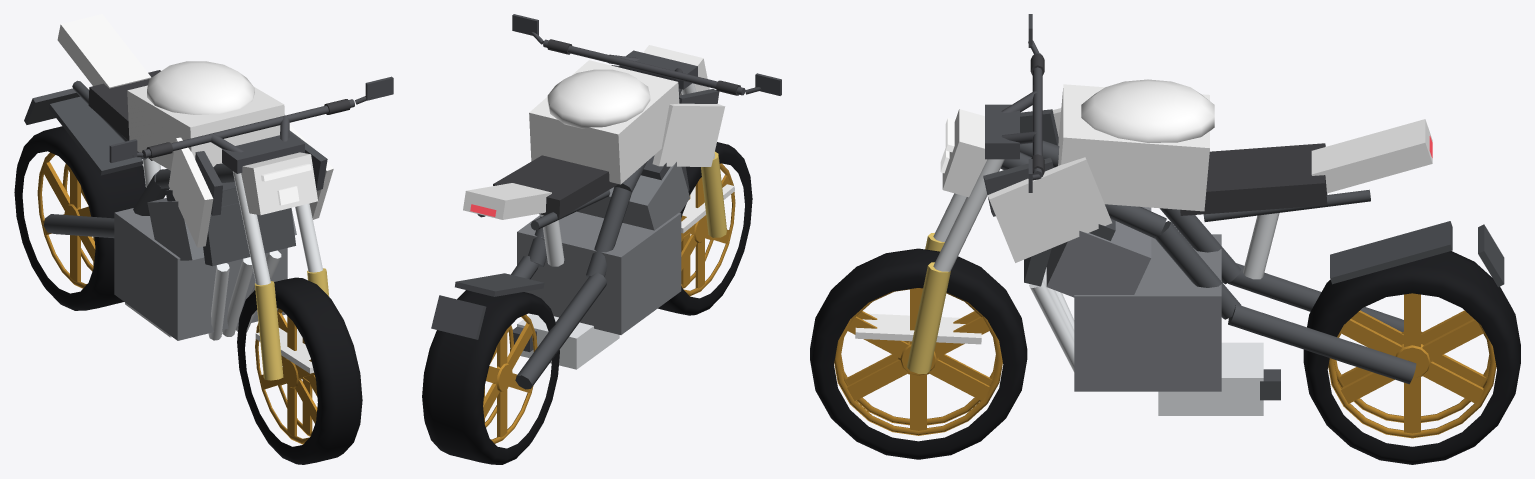
The model's file is yamaha_mt09.glb.
3 views of the same model, side by side, from view 1: azimuth 30°, elevation 25°; view 2: azimuth 150°, elevation 25°; view 3: azimuth 270°, elevation 25° (orthographic). The views are drawn at different scales.
Visible parts, largest first — view 1: body_trim (×2), body_paint (×2), tire (×2), rim (×3), body_chrome (×2), headlights; view 2: body_trim (×2), body_paint (×2), tire (×2), rim (×3), body_chrome; view 3: body_trim (×2), body_paint (×2), tire (×2), rim (×4), body_chrome (×2).
Part boxes in pixels (<box>): body_trim (×2): <box>24,70,393,380</box>; body_paint (×2): <box>57,14,333,373</box>; tire (×2): <box>14,126,362,464</box>; rim (×3): <box>37,152,317,444</box>; body_chrome (×2): <box>125,158,322,340</box>; headlights: <box>261,164,311,205</box>; body_trim (×2): <box>431,14,781,389</box>; body_paint (×2): <box>463,45,734,233</box>; tire (×2): <box>422,142,752,464</box>; rim (×3): <box>483,163,735,443</box>; body_chrome: <box>517,214,619,369</box>; body_trim (×2): <box>907,14,1504,400</box>; body_paint (×2): <box>855,79,1432,344</box>; tire (×2): <box>810,248,1520,464</box>; rim (×4): <box>834,288,1496,438</box>; body_chrome (×2): <box>933,159,1279,415</box>.
Bounding box in the file's own units: 1.08 × 1.14 × 2.03.
